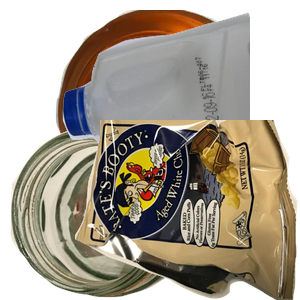glass: (10, 126, 220, 300)
metal: (53, 10, 293, 190)
plastic: (60, 10, 300, 175)
trash: (75, 120, 300, 300)
